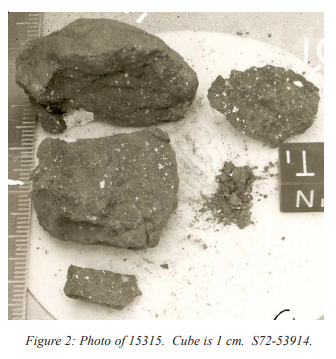Breccia: (16, 140, 205, 254), (14, 16, 210, 119), (191, 47, 317, 144), (50, 257, 161, 326)
